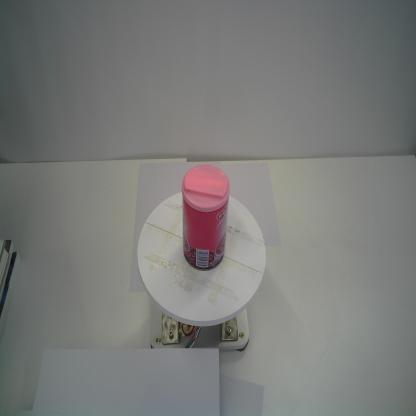Canned Food: (181, 164, 230, 270)
